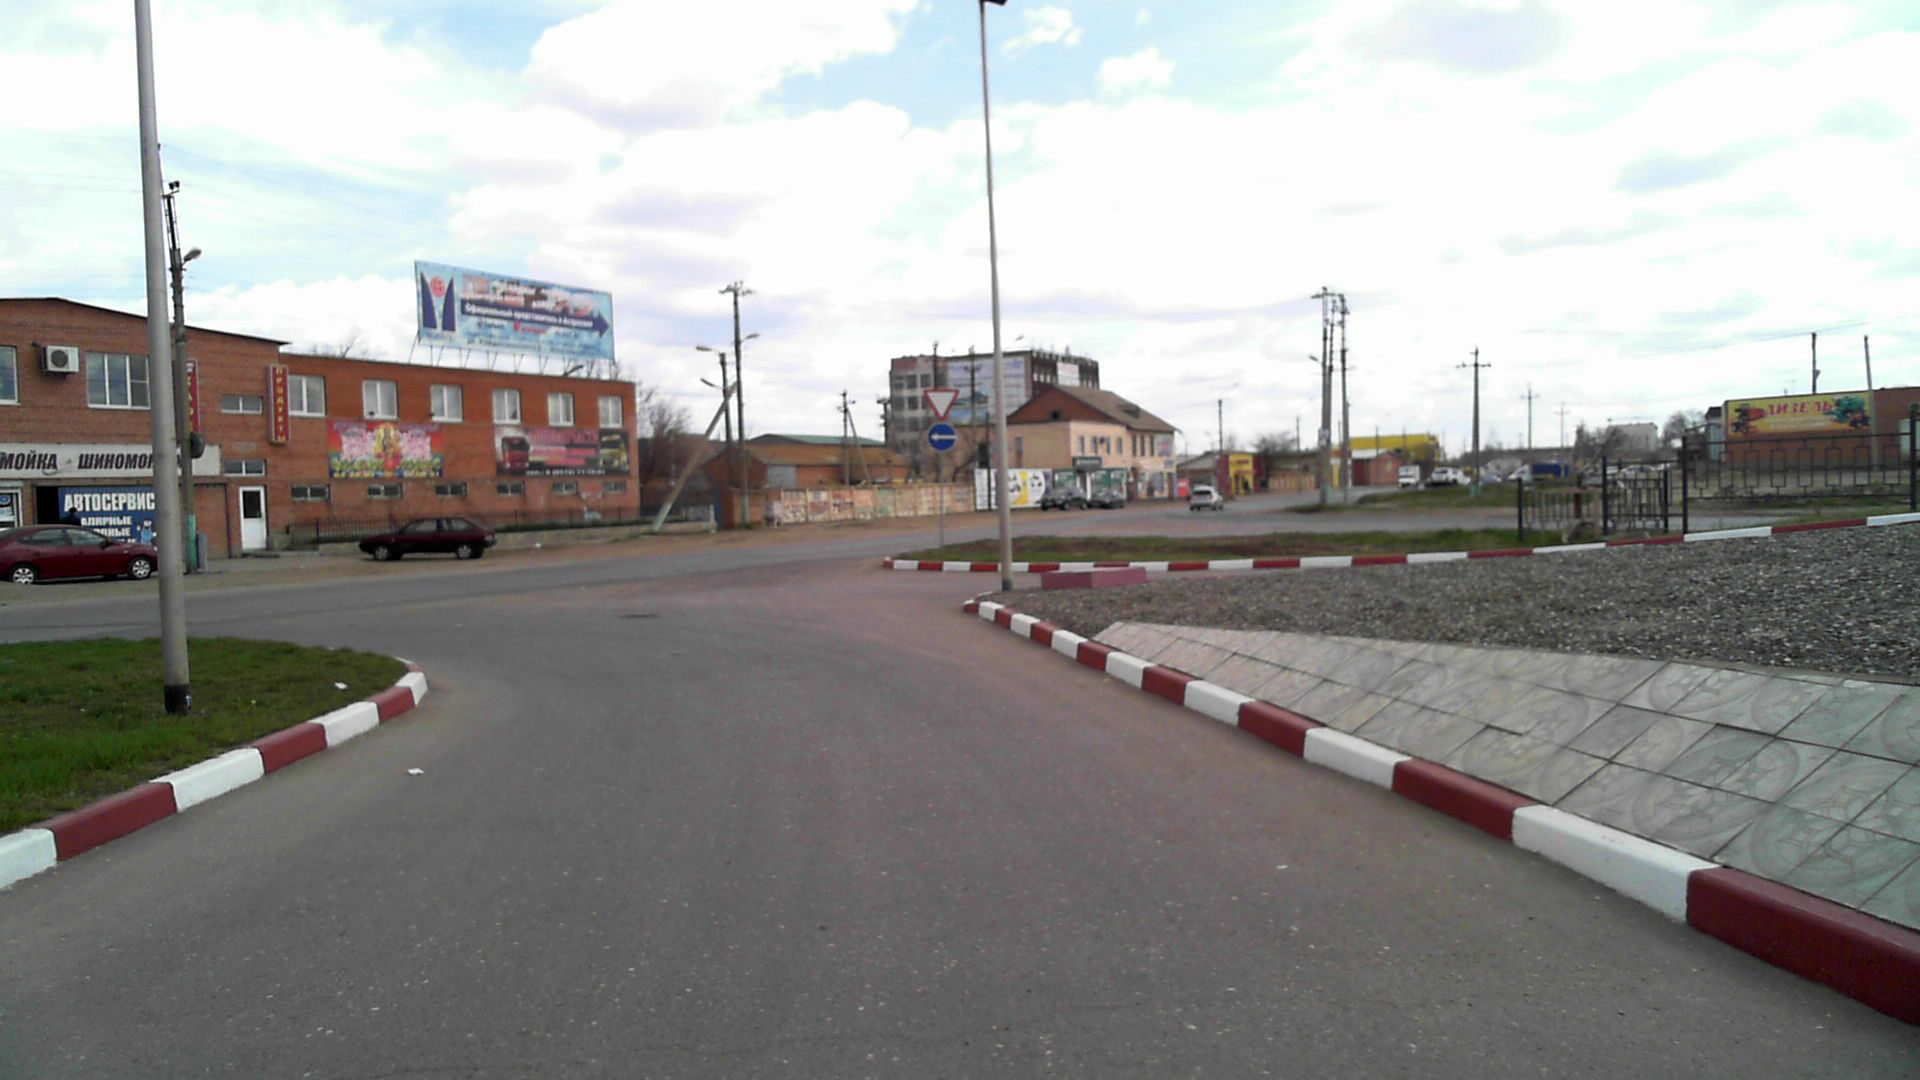Turn Left: (927, 423, 957, 450)
